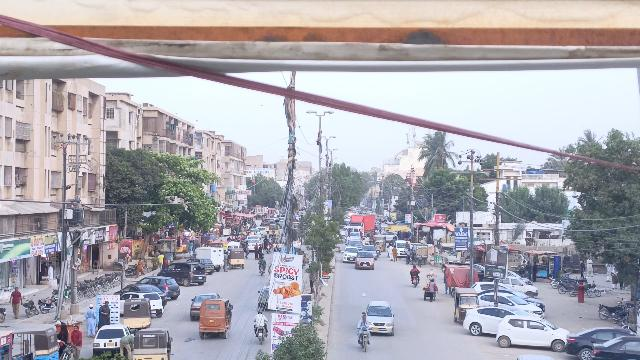Bike: (358, 325, 371, 352), (254, 325, 267, 346), (410, 274, 420, 289)
Car: (495, 313, 568, 351), (562, 325, 623, 359), (462, 304, 519, 336), (590, 334, 640, 360), (158, 261, 208, 287), (121, 290, 165, 319), (365, 299, 396, 338), (91, 325, 130, 355), (189, 293, 218, 320), (353, 251, 378, 271)
Cart: (422, 271, 439, 302)
Person: (7, 285, 23, 320), (69, 325, 84, 358), (83, 303, 97, 337), (98, 300, 113, 326), (119, 334, 134, 356), (253, 309, 268, 325), (357, 313, 370, 329), (410, 263, 421, 275)
Rickshaw: (198, 298, 234, 340), (133, 327, 172, 360), (451, 286, 479, 325), (122, 298, 153, 328), (229, 247, 246, 271)
Truck: (191, 246, 225, 269)
